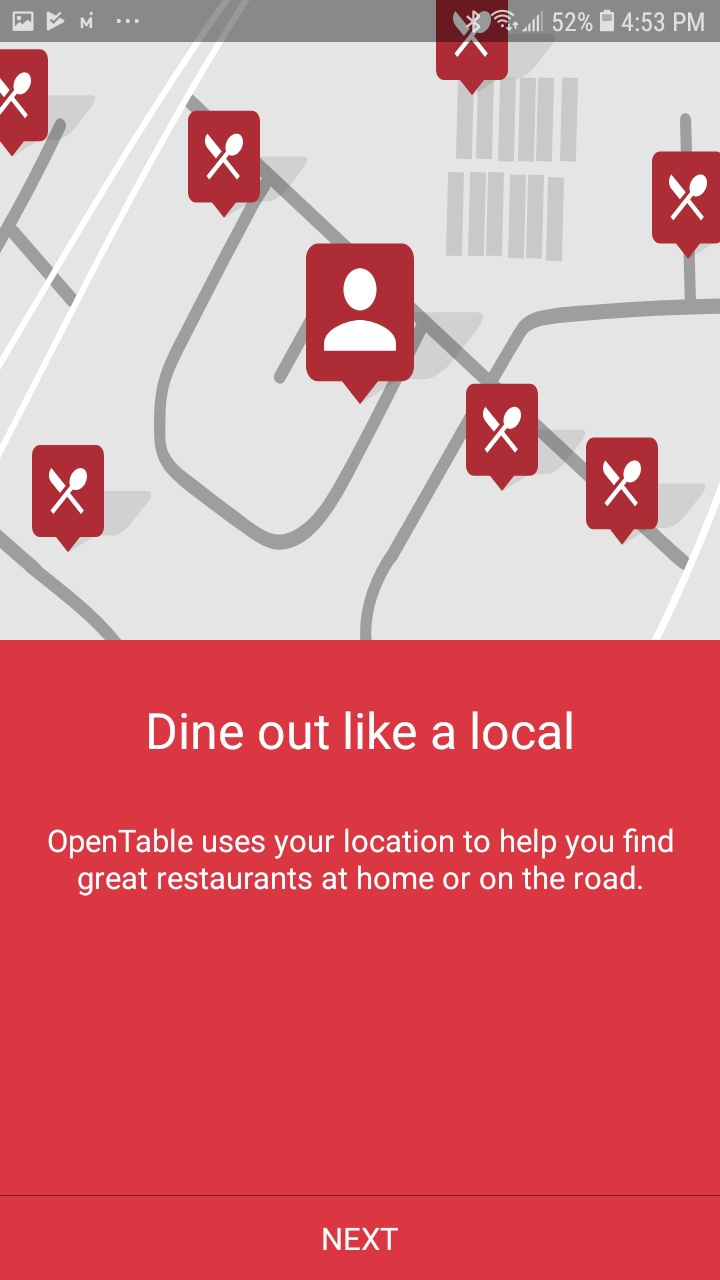Image: (1, 43, 720, 640)
Text: (48, 827, 674, 897), (149, 711, 573, 752)
TextButton: (1, 1194, 720, 1280)
UpperTaskBar: (1, 1, 720, 43)
